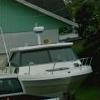Boat: (2, 38, 92, 100)
